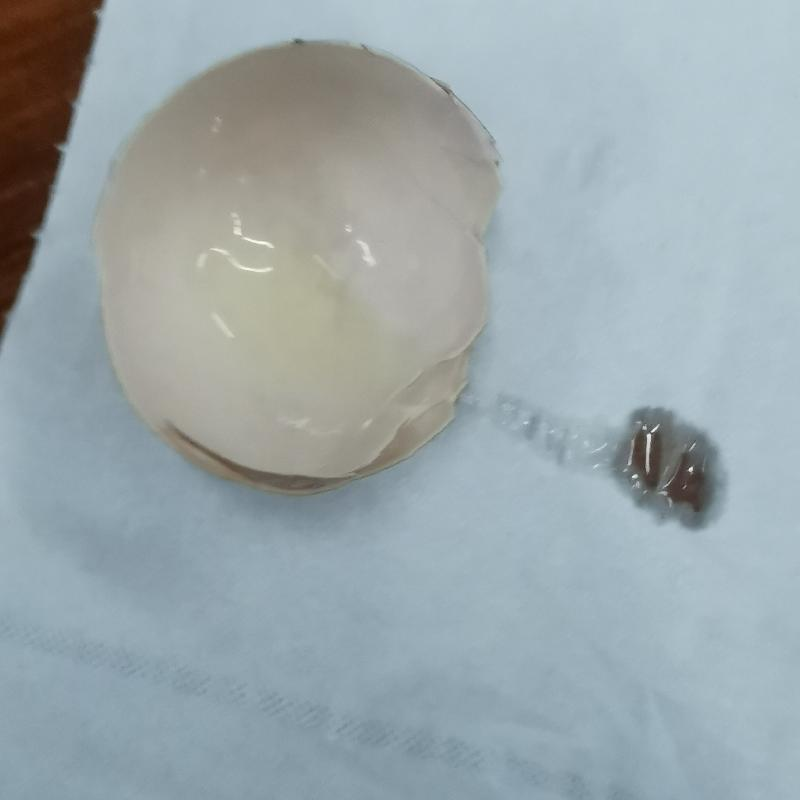eggshell: (96, 45, 496, 478)
